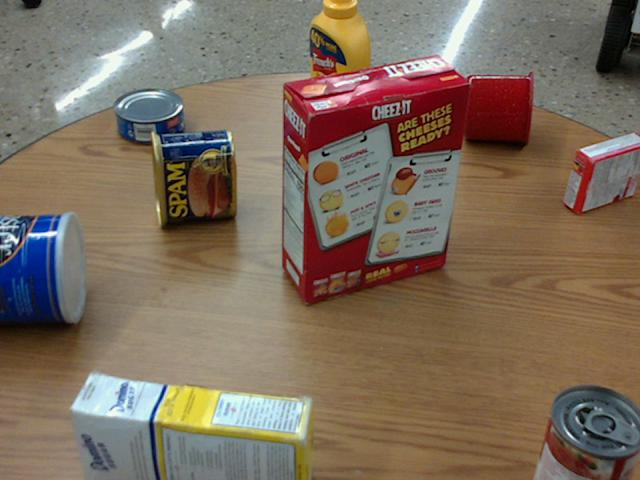cracker_box: (281, 54, 470, 301)
gelatin_box: (564, 134, 639, 214)
master_chef_can: (0, 211, 87, 321)
mug: (463, 70, 532, 145)
mustard_bottle: (308, 0, 369, 142)
potted_meat_can: (149, 127, 235, 224)
sugar_box: (65, 373, 312, 479)
tomato_soup_can: (533, 383, 639, 479)
tuna_fish_can: (115, 86, 184, 142)
